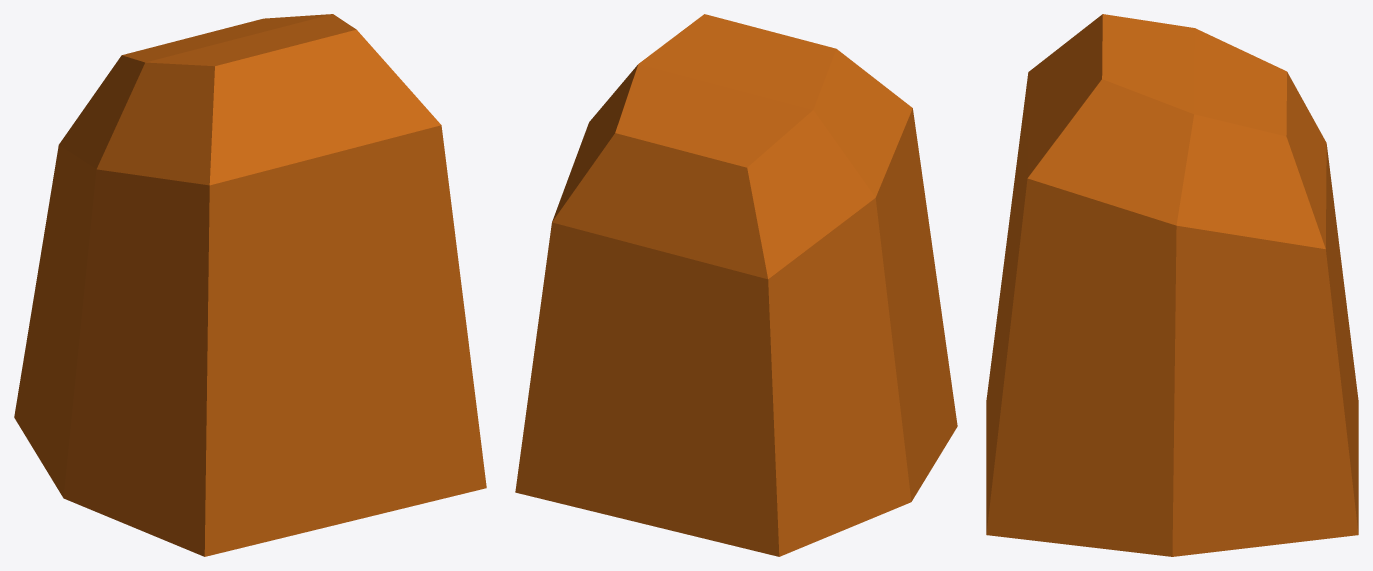
The model's file is Roca.glb.
3 renders of one model, left to right at view 1: azimuth 30°, elevation 25°; view 2: azimuth 150°, elevation 25°; view 3: azimuth 270°, elevation 25°, orthographic. The views are drawn at different scales.
Parts seen in each view (by area): view 1: Roca_01; view 2: Roca_01; view 3: Roca_01.
Part boxes in pixels (x1,y1,x2,y2): Roca_01: (14, 14, 486, 556); Roca_01: (515, 14, 957, 556); Roca_01: (986, 14, 1358, 556).
Size of the model in its own units: 0.1985 by 0.2194 by 0.1752.
